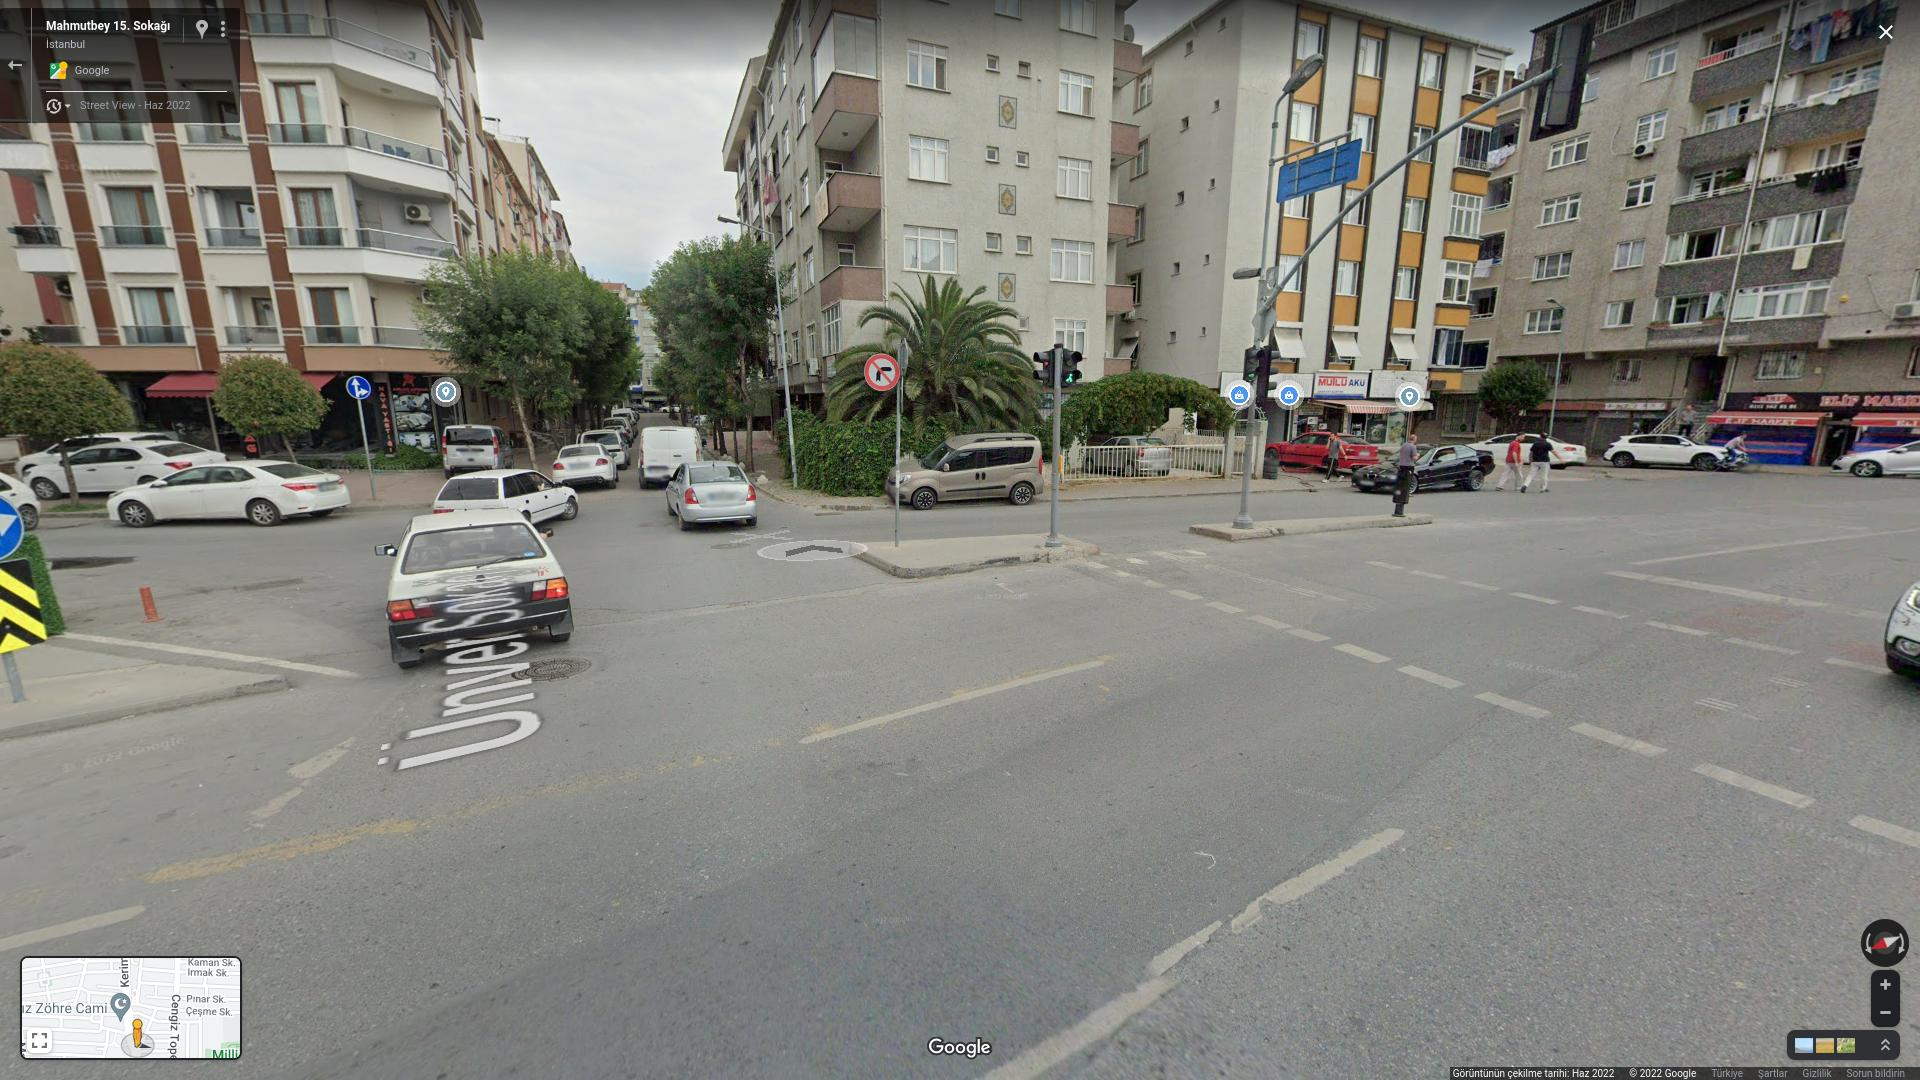rightturnsareforbidden: (864, 352, 899, 392)
